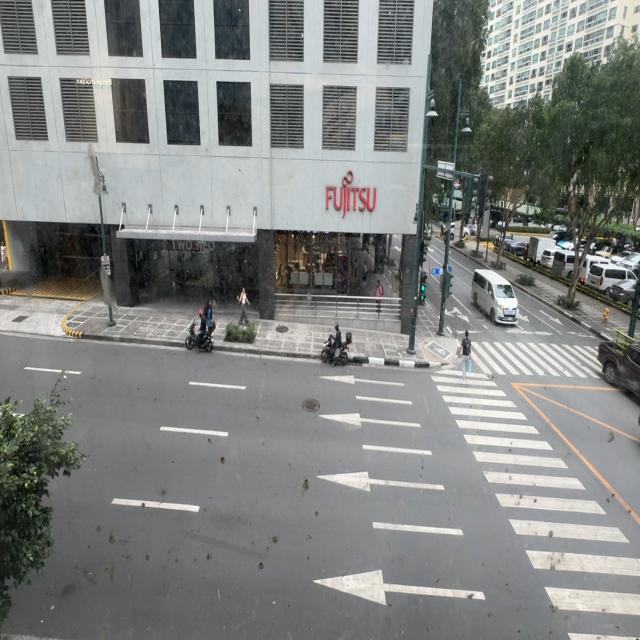crossing: (457, 329, 471, 380)
pedestrain: (237, 287, 251, 327), (375, 280, 384, 317), (205, 300, 213, 330), (362, 264, 368, 291)
